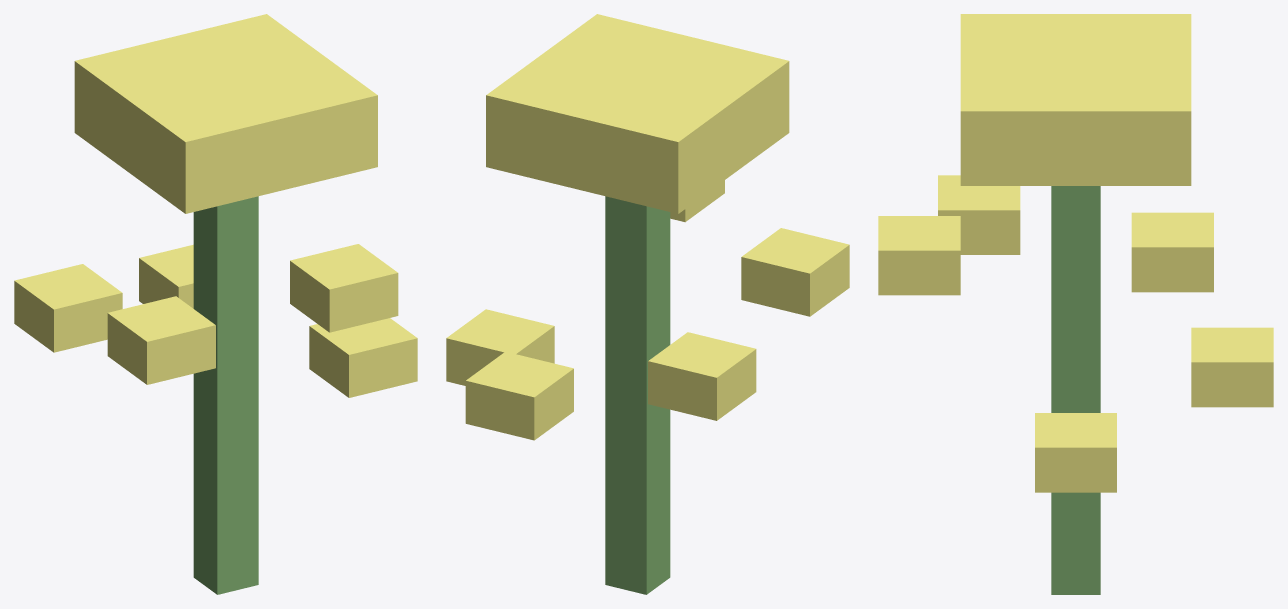
File: Prop_DS_Herb_OverclockThorn_S3_V2.glb
3 renders of one model, left to right at view 1: azimuth 30°, elevation 25°; view 2: azimuth 150°, elevation 25°; view 3: azimuth 270°, elevation 25°, orthographic. The views are drawn at different scales.
Parts seen in each view (by area): view 1: Cube.006, Cube, Cube.004, Cube.005, Cube.003, Cube.001, Cube.002; view 2: Cube.006, Cube, Cube.002, Cube.003, Cube.004, Cube.001, Cube.005; view 3: Cube.006, Cube, Cube.002, Cube.003, Cube.005, Cube.001, Cube.004.
Part boxes in pixels (x1,y1,x2,y2): Cube.006: (74,14,377,213); Cube: (193,196,258,594); Cube.004: (107,296,215,384); Cube.005: (290,244,398,332); Cube.003: (14,264,122,352); Cube.001: (309,318,417,397); Cube.002: (139,244,193,308); Cube.006: (486,14,789,213); Cube: (605,196,670,594); Cube.002: (465,351,573,440); Cube.003: (648,332,756,420); Cube.004: (741,228,849,316); Cube.001: (446,309,554,385); Cube.005: (670,180,724,222); Cube.006: (960,14,1191,185); Cube: (1051,186,1100,594); Cube.002: (1191,327,1273,407); Cube.003: (1131,212,1213,292); Cube.005: (878,216,960,295); Cube.001: (1035,413,1116,492); Cube.004: (938,175,1020,254).
Bounding box in the file's own units: 0.4618 × 0.7 × 0.4804.
